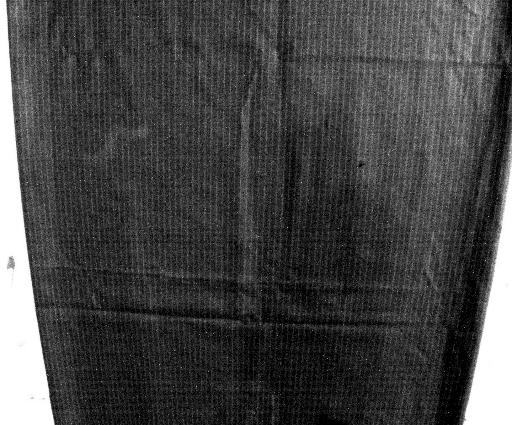fabric_hole: (322, 110, 334, 134), (356, 157, 370, 174)
